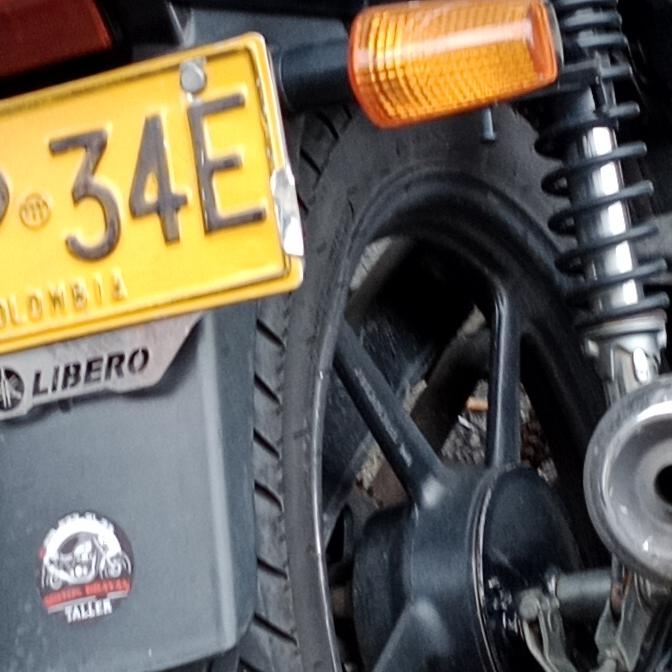plates: (0, 36, 316, 367)
